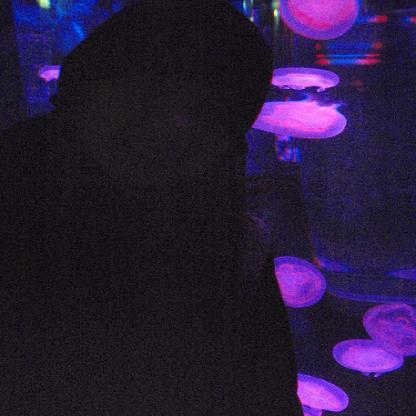Speckle: (255, 100, 351, 138), (276, 2, 360, 40), (271, 257, 329, 309), (363, 303, 415, 357), (334, 341, 404, 377), (291, 375, 347, 413), (274, 69, 342, 93), (37, 62, 63, 82)
